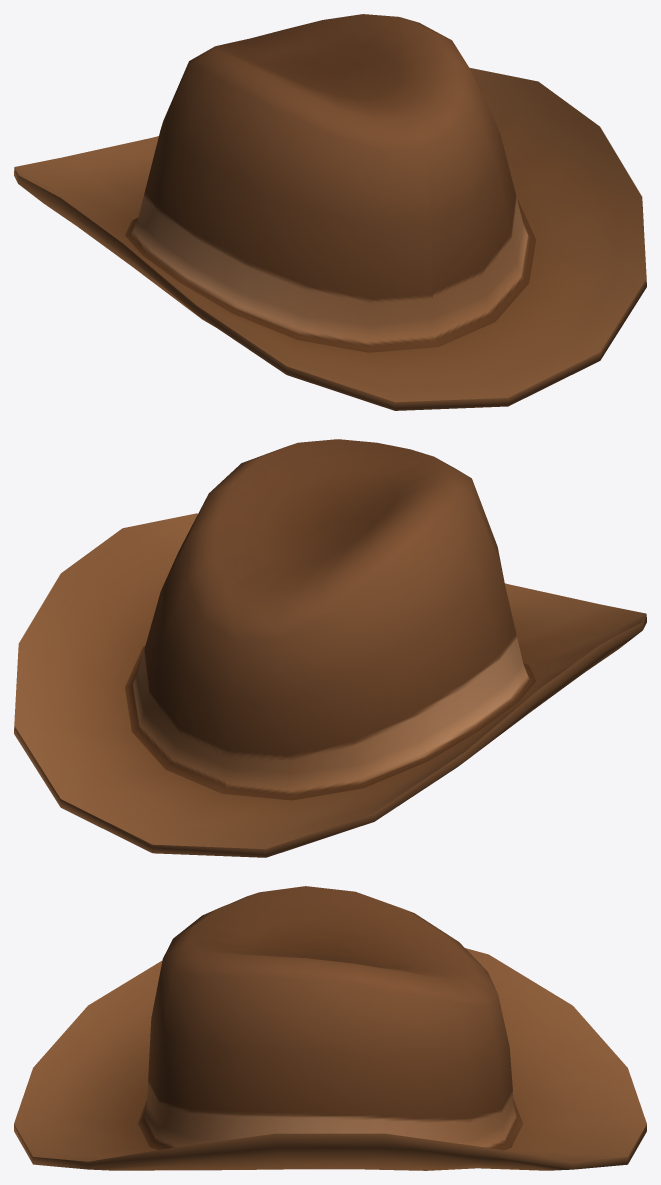
Rendered from ENV2010061.fbx.
3 renders of one model, top to bottom at view 1: azimuth 30°, elevation 25°; view 2: azimuth 150°, elevation 25°; view 3: azimuth 270°, elevation 25°, orthographic. The views are drawn at different scales.
Parts seen in each view (by area): view 1: smENV2010061; view 2: smENV2010061; view 3: smENV2010061.
Boxes of the visible parts, x1,y1,x2,y2 form: smENV2010061: [14, 14, 646, 410]; smENV2010061: [14, 439, 646, 857]; smENV2010061: [14, 886, 646, 1170].
Size of the model in its own units: 21.1 by 9.9 by 27.13.
1 material, 1 textured.
